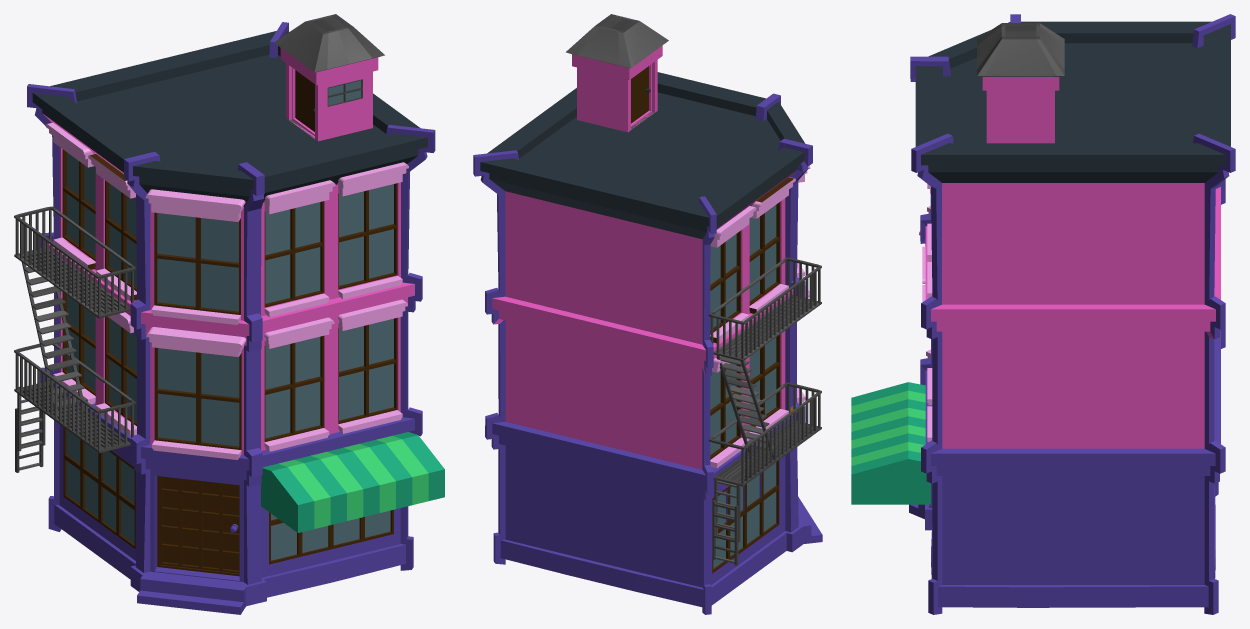
File: CornerBuildings.fbx_Corner_Building_-_Pink.fbx
3 renders of one model, left to right at view 1: azimuth 30°, elevation 25°; view 2: azimuth 150°, elevation 25°; view 3: azimuth 270°, elevation 25°, orthographic. The views are drawn at different scales.
Visible parts, largest first — view 1: Cube.003; view 2: Cube.003; view 3: Cube.003.
Boxes of the visible parts, box(x1,y1,x2,y2) form: Cube.003: box(14, 14, 444, 614); Cube.003: box(473, 14, 822, 614); Cube.003: box(851, 14, 1235, 614).
Size of the model in its own units: 1689 by 1542 by 2734.
